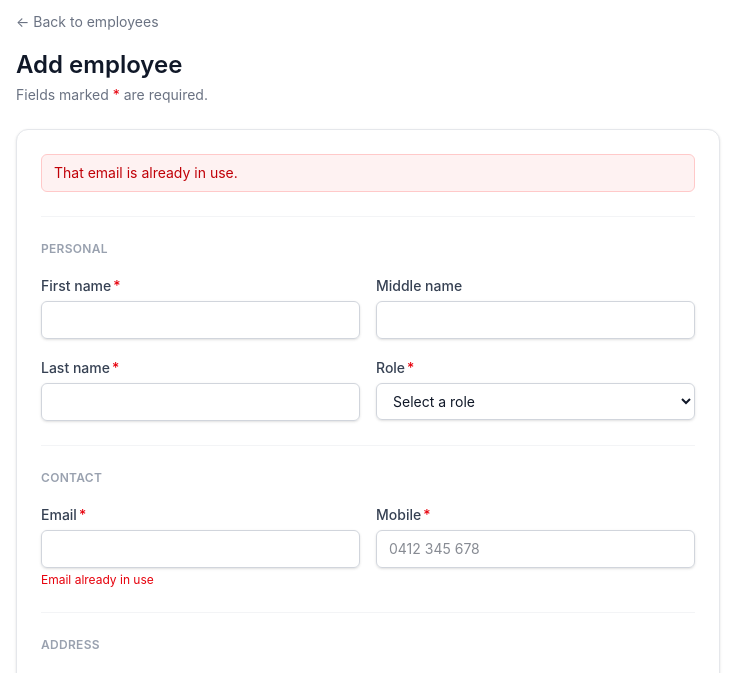
EmployeeForm › clears a server rejection once the user starts editing again
Check: the text "That email is already in use." is shown, box [41,154,695,192]
Type "J" into the field labelled "First name*". click: (200, 320)
box: [41,301,360,339]
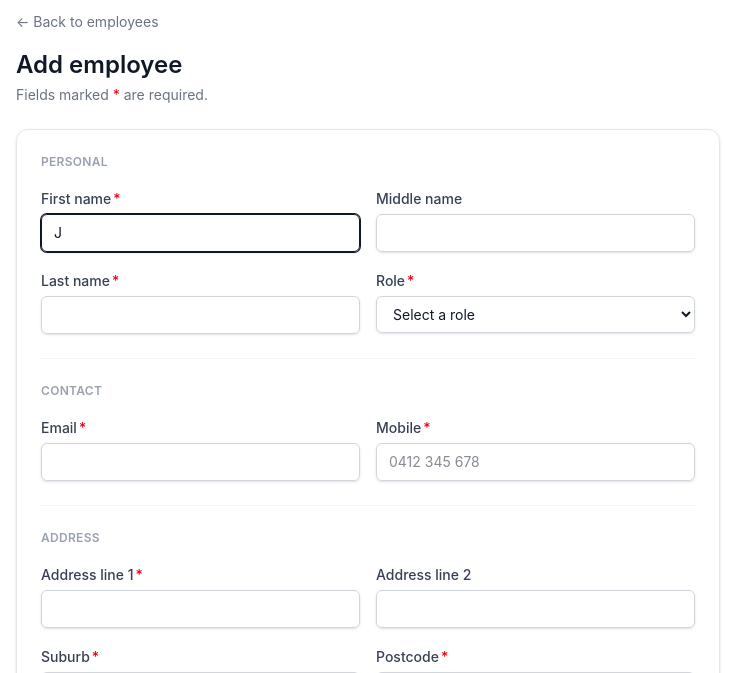
Check: the text "That email is already in use." is gone
